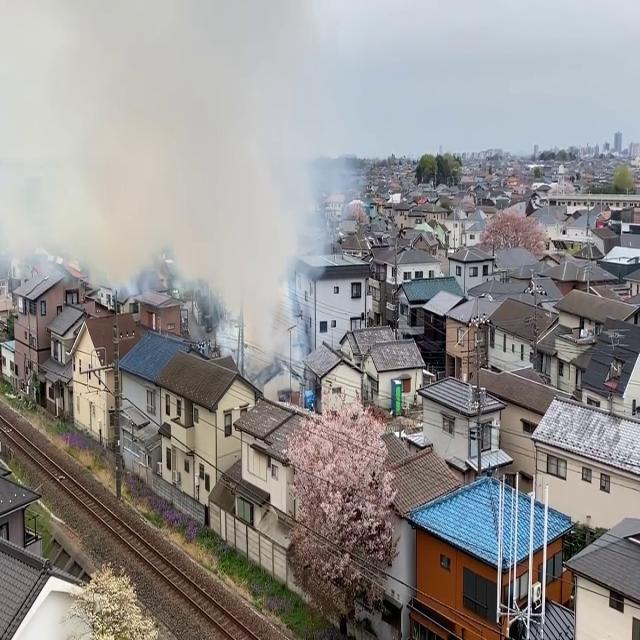Smoke: (2, 0, 338, 369)
